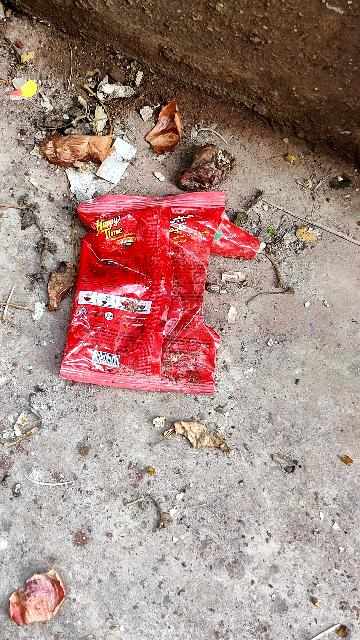packet: (55, 180, 228, 397)
